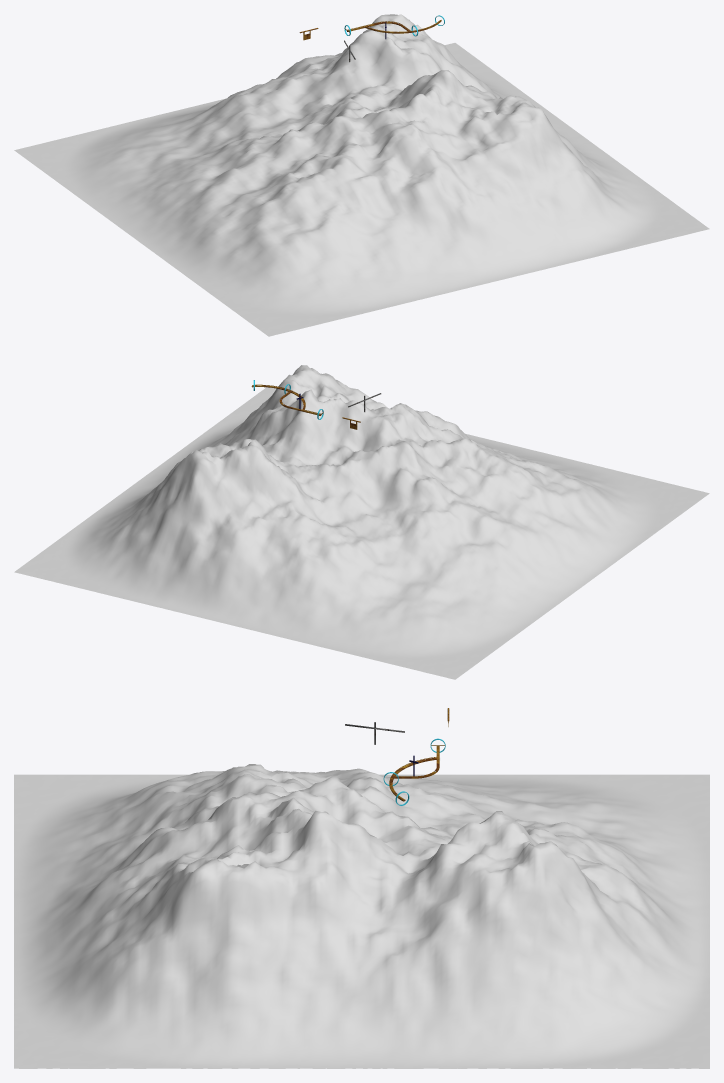
Rendered from hest.glb.
The picture shows the model from 3 angles, top to bottom: view 1: azimuth 30°, elevation 25°; view 2: azimuth 150°, elevation 25°; view 3: azimuth 270°, elevation 25°; orthographic projection. The views are drawn at different scales.
Parts seen in each view (by area): view 1: Landscape; view 2: Landscape; view 3: Landscape.
Part boxes in pixels (left/top/right/bottom): Landscape: left=14, top=14, right=709, bottom=336; Landscape: left=14, top=365, right=709, bottom=679; Landscape: left=14, top=764, right=709, bottom=1068.
Bounding box in the file's own units: 883 × 272 × 883.
Materials: 8 (2 with a texture image).
